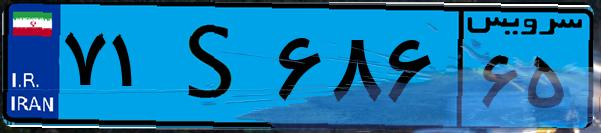1: (110, 28, 158, 98)
5: (525, 38, 570, 115)
6: (270, 28, 330, 110), (385, 28, 445, 110), (475, 38, 525, 113)
7: (57, 26, 110, 100)
8: (330, 28, 385, 110)
S: (158, 12, 270, 120)
